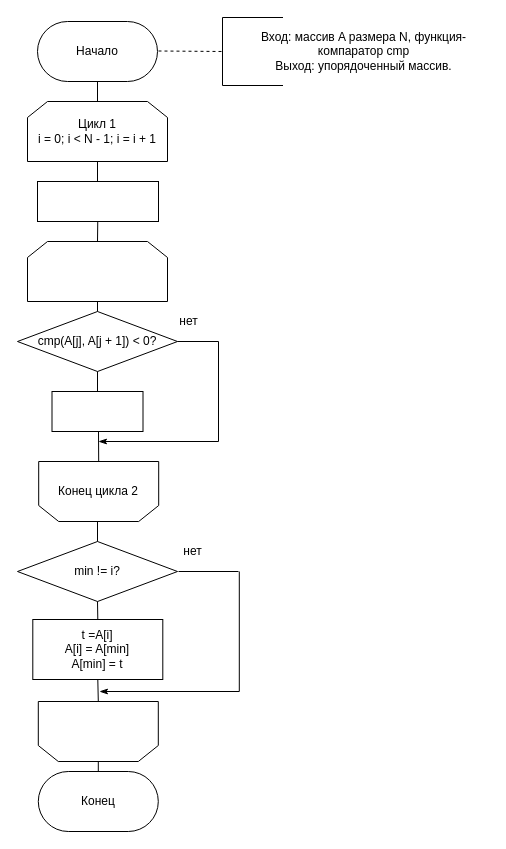
The diagram is 506 pixels wide and 849 high, and some of its shapes have lost their labels. The centre of each missing label's shape, as x and y in pixels:
"min = i" belongs at point 97,201.
"min = j" belongs at point 97,411.
"Конец цикла 1" belongs at point 97,731.
"Цикл 2 j = i + 1; j < N; j = j + 1" belongs at point 97,271.
